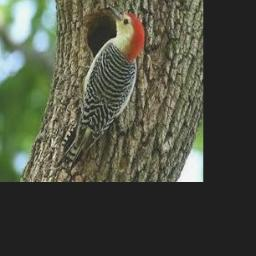Woodpecker: (54, 5, 145, 177)
